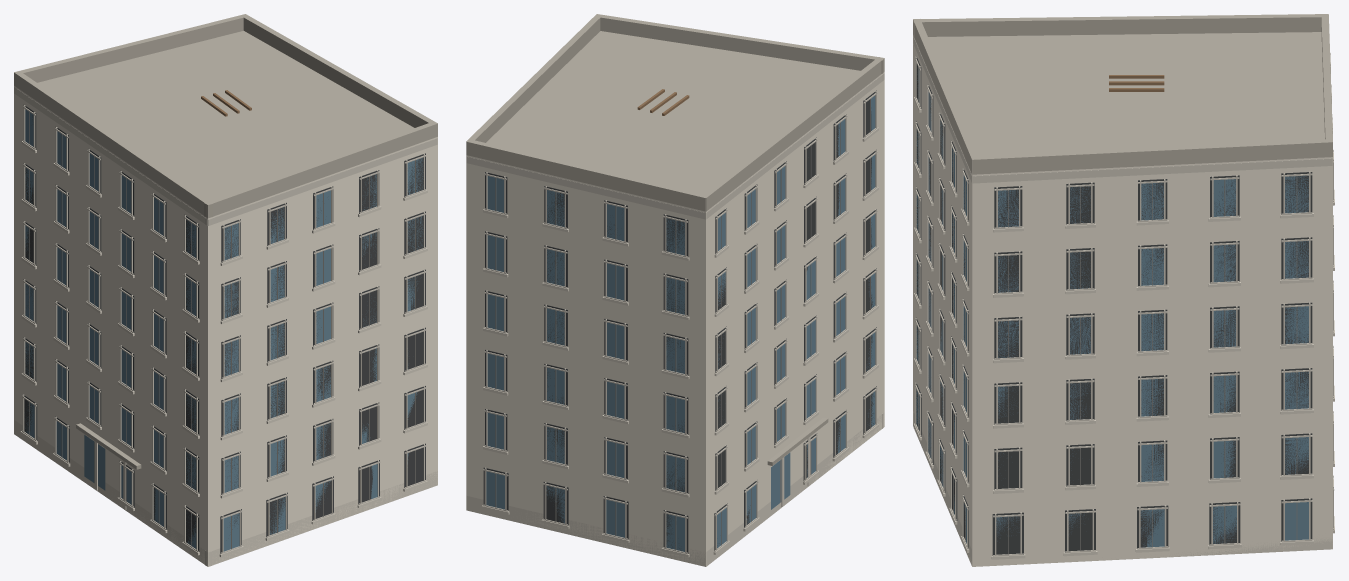
Rendered from cop_equipamento_especial_05__way_588408934.fbx.
The picture shows the model from 3 angles, left to right: view 1: azimuth 30°, elevation 25°; view 2: azimuth 150°, elevation 25°; view 3: azimuth 270°, elevation 25°; orthographic projection. The views are drawn at different scales.
Visible parts, largest first — view 1: cop_equipamento_especial_05__way_588408934_wall, cop_equipamento_especial_05__way_588408934_roof, cop_equipamento_especial_05__way_588408934_glass, cop_equipamento_especial_05__way_588408934_shadow, cop_equipamento_especial_05__way_588408934_trim, cop_equipamento_especial_05__way_588408934_stone, cop_equipamento_especial_05__way_588408934_metal; view 2: cop_equipamento_especial_05__way_588408934_wall, cop_equipamento_especial_05__way_588408934_roof, cop_equipamento_especial_05__way_588408934_glass, cop_equipamento_especial_05__way_588408934_trim, cop_equipamento_especial_05__way_588408934_shadow, cop_equipamento_especial_05__way_588408934_stone, cop_equipamento_especial_05__way_588408934_metal; view 3: cop_equipamento_especial_05__way_588408934_wall, cop_equipamento_especial_05__way_588408934_roof, cop_equipamento_especial_05__way_588408934_shadow, cop_equipamento_especial_05__way_588408934_glass, cop_equipamento_especial_05__way_588408934_trim, cop_equipamento_especial_05__way_588408934_stone, cop_equipamento_especial_05__way_588408934_metal, cop_equipamento_especial_05__way_588408934_wood.
Boxes of the visible parts, <box> form: cop_equipamento_especial_05__way_588408934_wall: <box>14,86,437,566</box>; cop_equipamento_especial_05__way_588408934_roof: <box>14,14,437,469</box>; cop_equipamento_especial_05__way_588408934_glass: <box>24,109,423,551</box>; cop_equipamento_especial_05__way_588408934_shadow: <box>22,106,425,553</box>; cop_equipamento_especial_05__way_588408934_trim: <box>14,87,437,553</box>; cop_equipamento_especial_05__way_588408934_stone: <box>14,141,437,566</box>; cop_equipamento_especial_05__way_588408934_metal: <box>29,112,415,549</box>; cop_equipamento_especial_05__way_588408934_wall: <box>466,72,884,566</box>; cop_equipamento_especial_05__way_588408934_roof: <box>466,14,884,465</box>; cop_equipamento_especial_05__way_588408934_glass: <box>486,95,875,551</box>; cop_equipamento_especial_05__way_588408934_trim: <box>466,73,884,554</box>; cop_equipamento_especial_05__way_588408934_shadow: <box>483,90,876,553</box>; cop_equipamento_especial_05__way_588408934_stone: <box>466,127,884,566</box>; cop_equipamento_especial_05__way_588408934_metal: <box>495,99,870,550</box>; cop_equipamento_especial_05__way_588408934_wall: <box>913,35,1332,566</box>; cop_equipamento_especial_05__way_588408934_roof: <box>913,14,1332,174</box>; cop_equipamento_especial_05__way_588408934_shadow: <box>916,56,1312,555</box>; cop_equipamento_especial_05__way_588408934_glass: <box>916,68,1308,547</box>; cop_equipamento_especial_05__way_588408934_trim: <box>913,36,1334,556</box>; cop_equipamento_especial_05__way_588408934_stone: <box>913,97,1334,566</box>; cop_equipamento_especial_05__way_588408934_metal: <box>918,66,1297,554</box>; cop_equipamento_especial_05__way_588408934_wood: <box>1109,75,1164,91</box>.
Bounding box in the file's own units: 1444 × 1877 × 1755.
